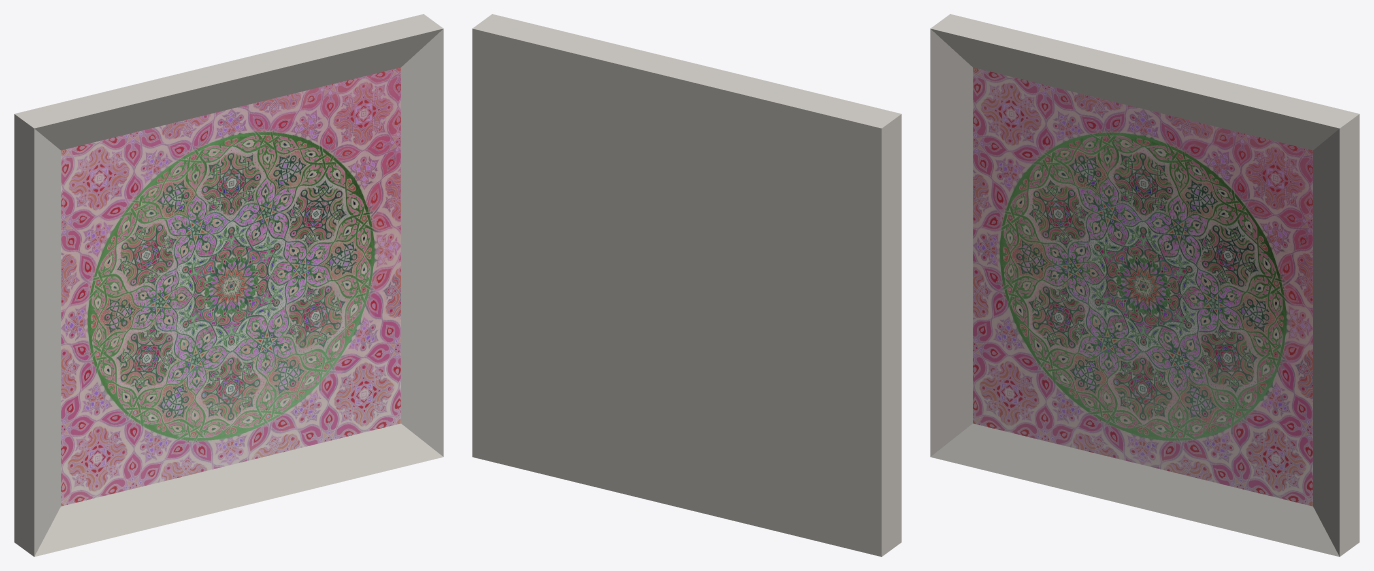
File: peacock-minerva-peacock-mary-pink-a3-white-v2.glb
3 views of the same model, side by side, from view 1: azimuth 30°, elevation 25°; view 2: azimuth 150°, elevation 25°; view 3: azimuth 330°, elevation 25° (orthographic).
Visible parts, largest first — view 1: FramedPrint; view 2: FramedPrint; view 3: FramedPrint.
Part boxes in pixels (x1,y1,x2,y2): FramedPrint: (14, 14, 443, 556); FramedPrint: (472, 14, 901, 556); FramedPrint: (930, 14, 1359, 556).
Size of the model in its own units: 0.355 by 0.355 by 0.03.
Materials: 2 (1 with a texture image).
